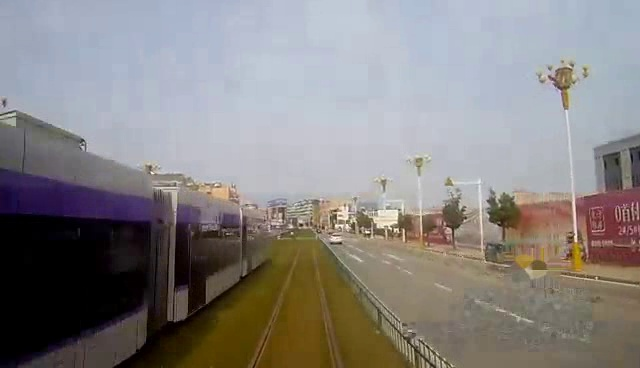car: (326, 229, 345, 248)
train: (0, 108, 280, 368)
